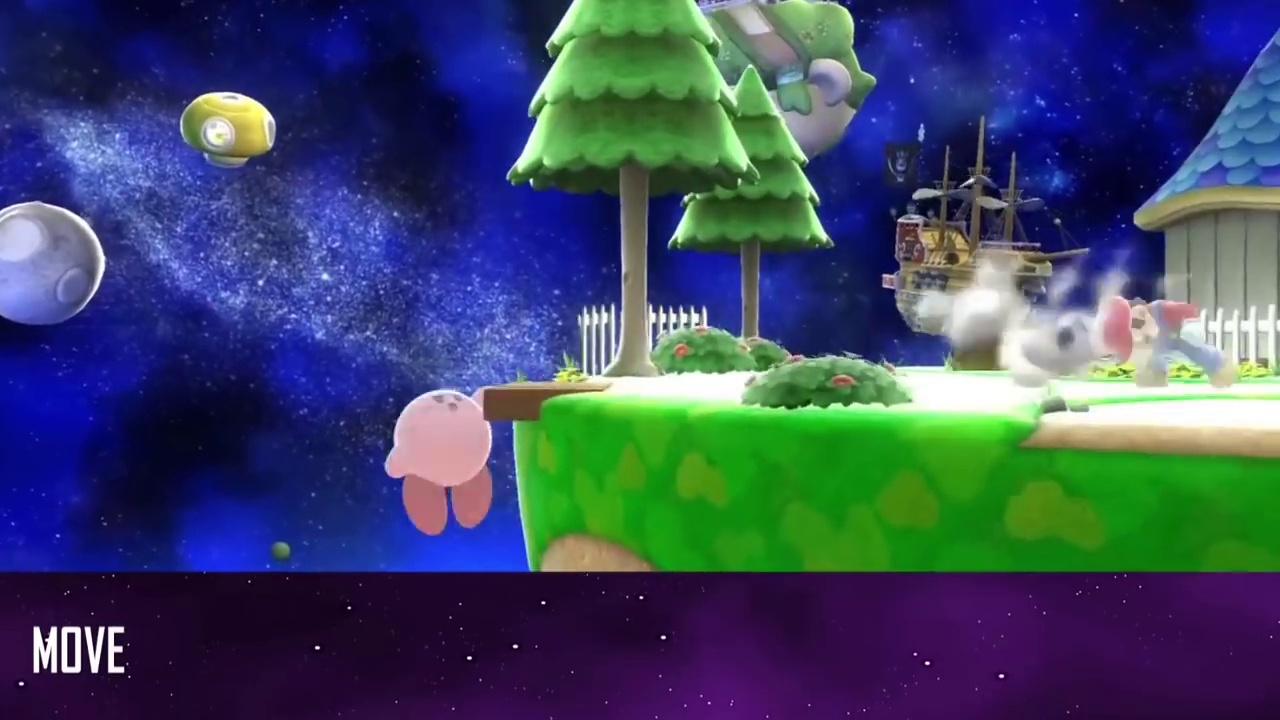Mario: (1097, 296, 1230, 388)
